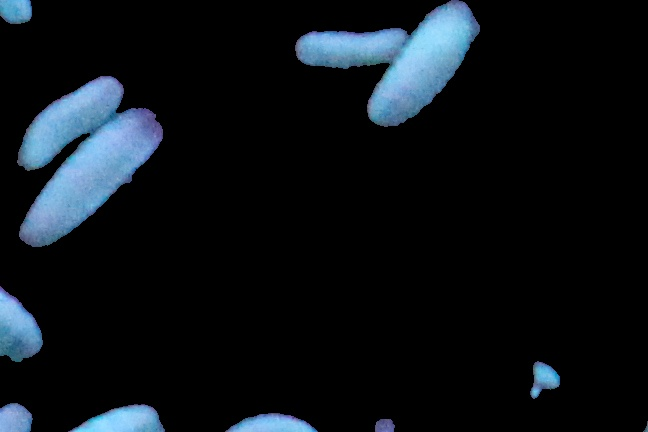larvae: (18, 104, 166, 247), (365, 1, 474, 127), (16, 77, 123, 171), (294, 23, 409, 74), (1, 281, 46, 374)
